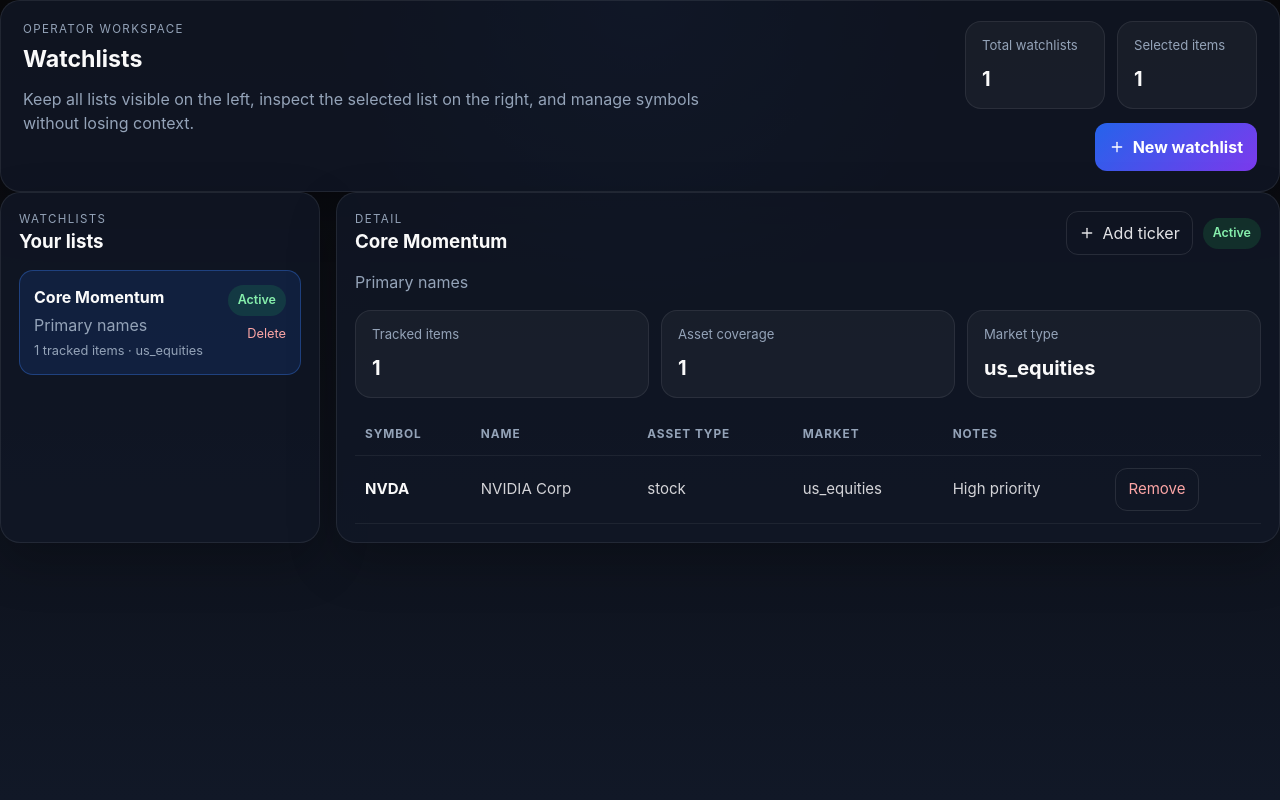
Test: WatchlistsView › opens the add ticker modal with the autocomplete field
What coordinates should you click on to do the following:
click the button "Add ticker"
I would click on:
 (1129, 233)
Its box is [1066,211,1193,255].
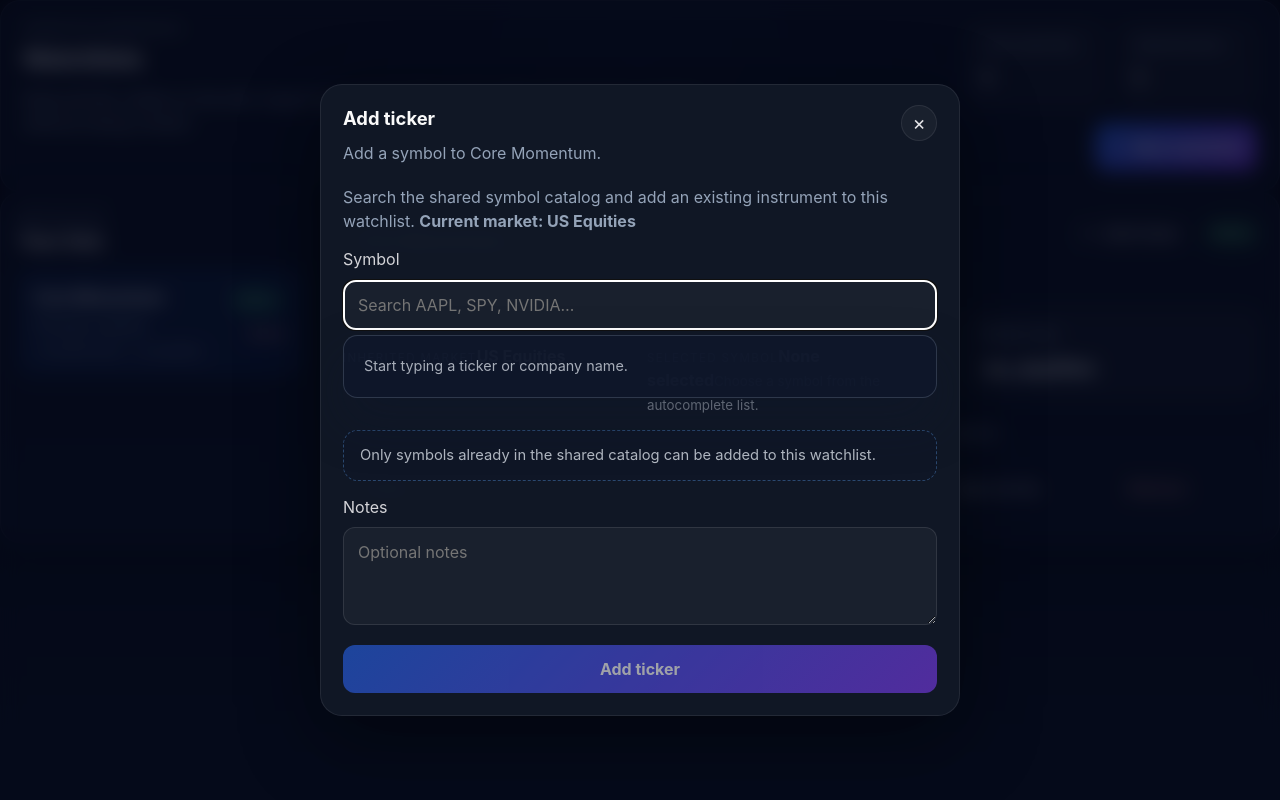
Expected: the field with placeholder "Search AAPL, SPY, NVIDIA…" is shown, [343,280,937,330]
